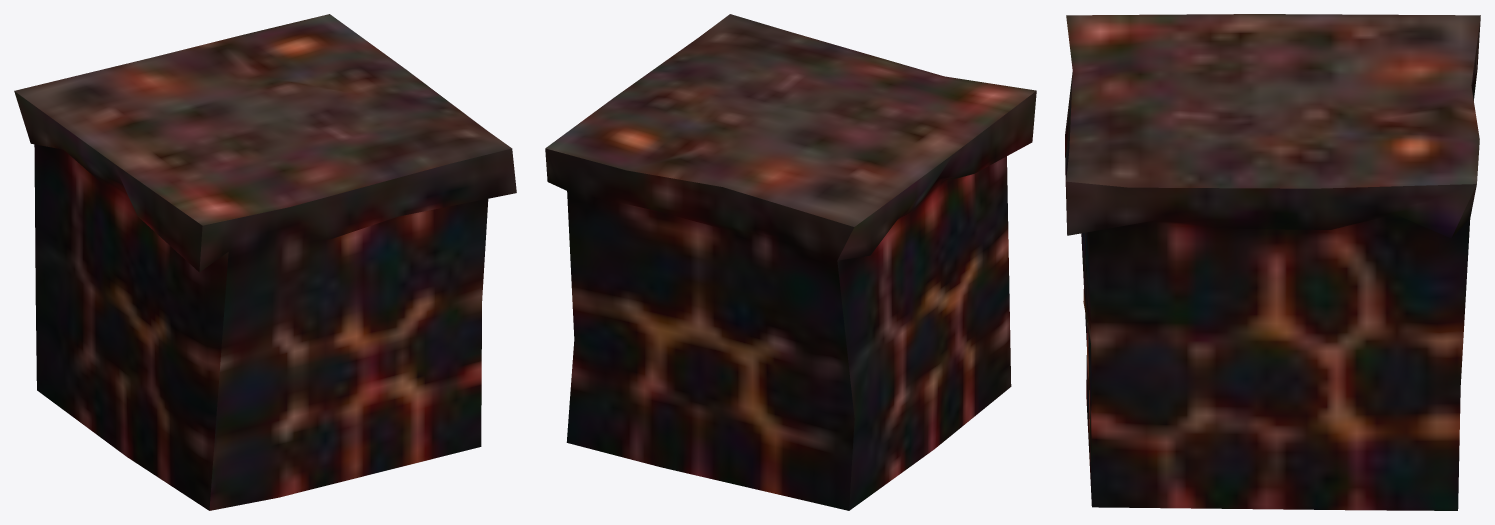
The model's file is b_braises_mur_2_lod1.glb.
3 renders of one model, left to right at view 1: azimuth 30°, elevation 25°; view 2: azimuth 150°, elevation 25°; view 3: azimuth 270°, elevation 25°, orthographic. The views are drawn at different scales.
Visible parts, largest first — view 1: geometry_0; view 2: geometry_0; view 3: geometry_0.
Boxes of the visible parts, x1=… form: geometry_0: x1=14, y1=14, x2=516, y2=510; geometry_0: x1=545, y1=14, x2=1036, y2=510; geometry_0: x1=1065, y1=14, x2=1480, y2=510.
Size of the model in its own units: 1 by 0.9115 by 1.
Materials: 1 (1 with a texture image).
